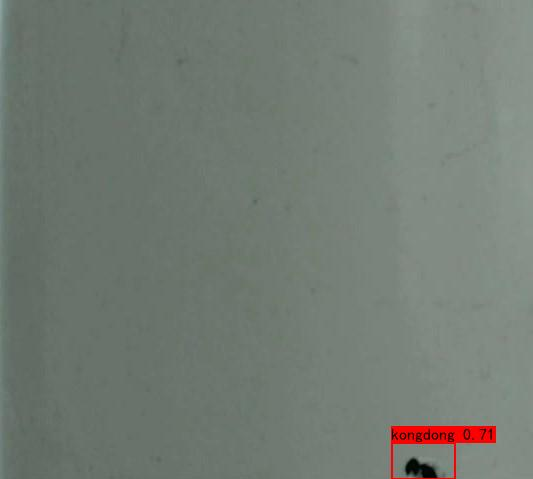kongdong: (401, 451, 442, 479)
